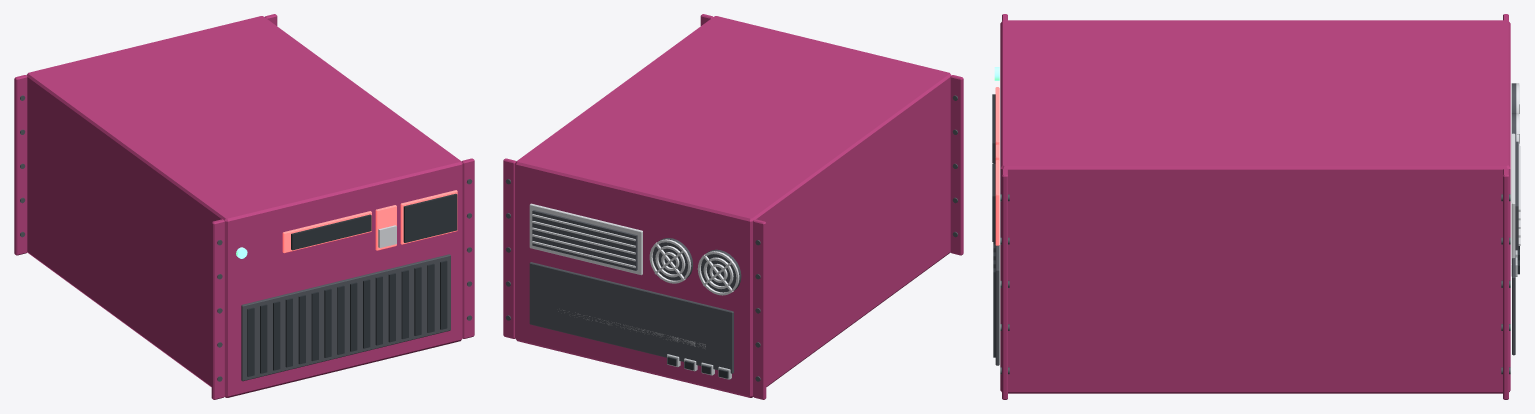
The model's file is dc_server_purple.glb.
The picture shows the model from 3 angles, left to right: view 1: azimuth 30°, elevation 25°; view 2: azimuth 150°, elevation 25°; view 3: azimuth 270°, elevation 25°; orthographic projection. The views are drawn at different scales.
Visible parts, largest first — view 1: Server_Chassis_Body, Front_Drive_Indicators, Front_UI_And_Displays; view 2: Server_Chassis_Body, Rear_Fans_And_Radiator, Rear_Network_Ports; view 3: Server_Chassis_Body, Rear_Fans_And_Radiator, Front_UI_And_Displays, Front_Drive_Indicators.
Boxes of the visible parts, x1,y1,x2,y2 form: Server_Chassis_Body: (14,14,474,399); Front_Drive_Indicators: (241,254,450,381); Front_UI_And_Displays: (236,190,457,258); Server_Chassis_Body: (503,14,963,399); Rear_Fans_And_Radiator: (529,203,741,373); Rear_Network_Ports: (558,310,731,379); Server_Chassis_Body: (1000,14,1510,399); Rear_Fans_And_Radiator: (1511,83,1520,355); Front_UI_And_Displays: (992,67,999,245); Front_Drive_Indicators: (993,163,999,365).
Bounding box in the file's own units: 0.488 × 0.32 × 0.6725.
